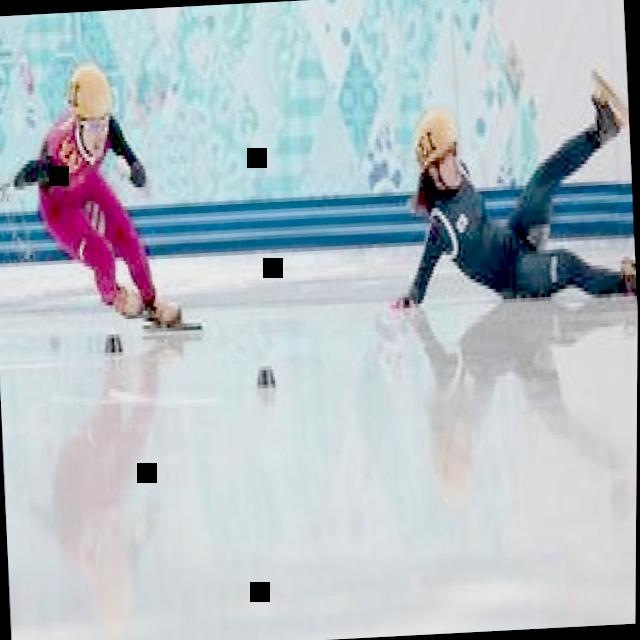Fall-Detected: (379, 39, 640, 324)
